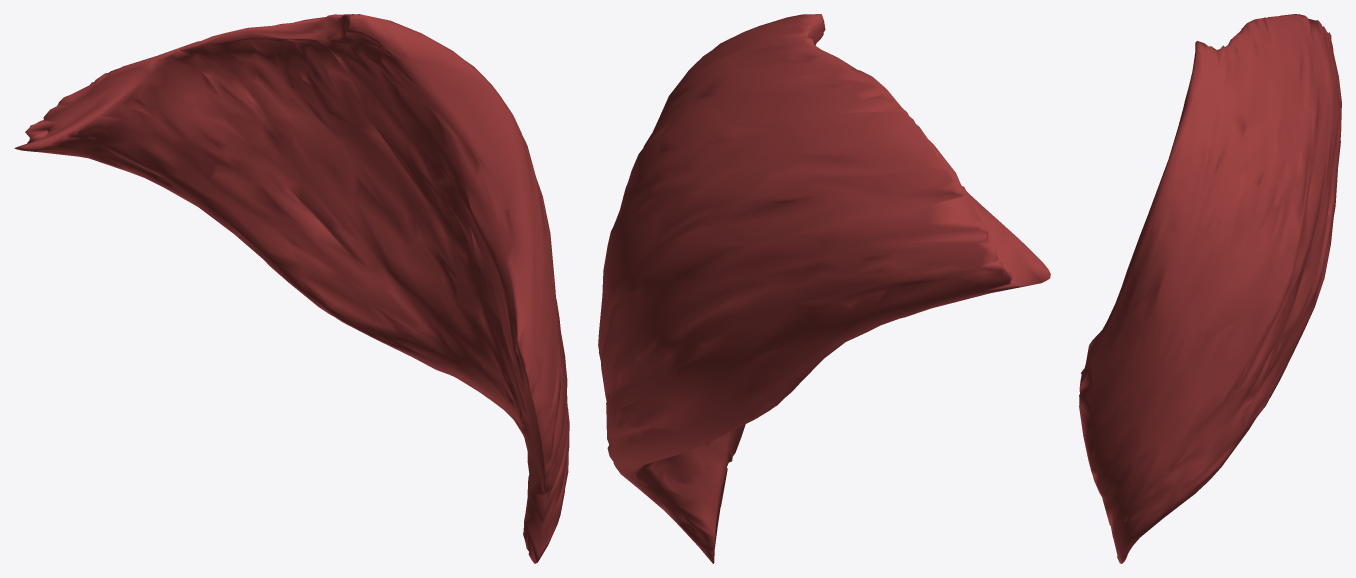
Rendered from scapular-spinal-part-of-deltoid-muscle-l.glb.
3 views of the same model, side by side, from view 1: azimuth 30°, elevation 25°; view 2: azimuth 150°, elevation 25°; view 3: azimuth 270°, elevation 25° (orthographic). The views are drawn at different scales.
Parts seen in each view (by area): view 1: Scapular spinal part of deltoid muscle.l; view 2: Scapular spinal part of deltoid muscle.l; view 3: Scapular spinal part of deltoid muscle.l.
Boxes of the visible parts, x1,y1,x2,y2 form: Scapular spinal part of deltoid muscle.l: (14, 14, 569, 563); Scapular spinal part of deltoid muscle.l: (598, 14, 1050, 563); Scapular spinal part of deltoid muscle.l: (1079, 14, 1341, 563).
Bounding box in the file's own units: 0.1368 × 0.1564 × 0.0801.
